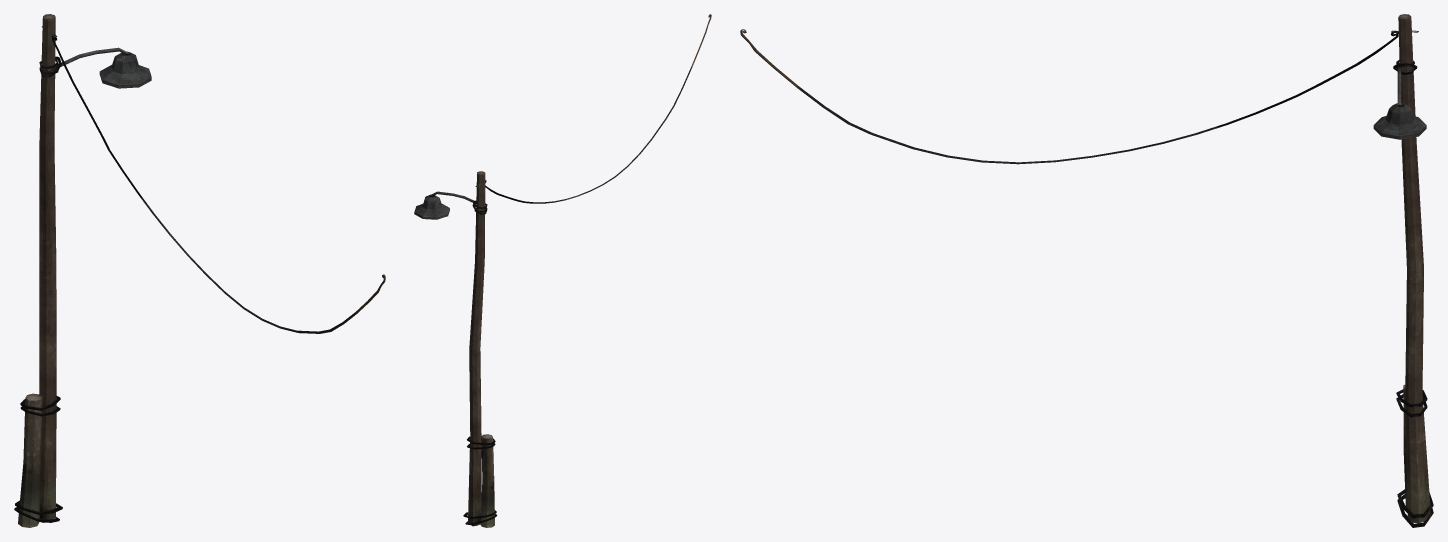
The model's file is Lamp_02.glb.
The picture shows the model from 3 angles, left to right: view 1: azimuth 30°, elevation 25°; view 2: azimuth 150°, elevation 25°; view 3: azimuth 270°, elevation 25°; orthographic projection. The views are drawn at different scales.
Visible parts, largest first — view 1: Lamp_02; view 2: Lamp_02; view 3: Lamp_02.
Part boxes in pixels (left/top/right/bottom): Lamp_02: left=14, top=14, right=385, bottom=527; Lamp_02: left=414, top=14, right=711, bottom=527; Lamp_02: left=740, top=14, right=1433, bottom=527.
Bounding box in the file's own units: 3.74 × 14.67 × 18.26.
Materials: 1 (1 with a texture image).
